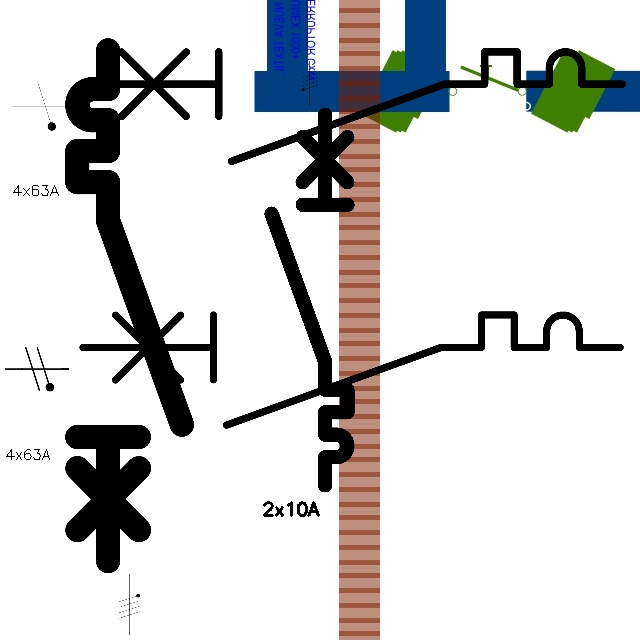interruptor_termomagnetico: (68, 301, 633, 439), (75, 38, 636, 175), (64, 37, 195, 574), (262, 105, 357, 495)
